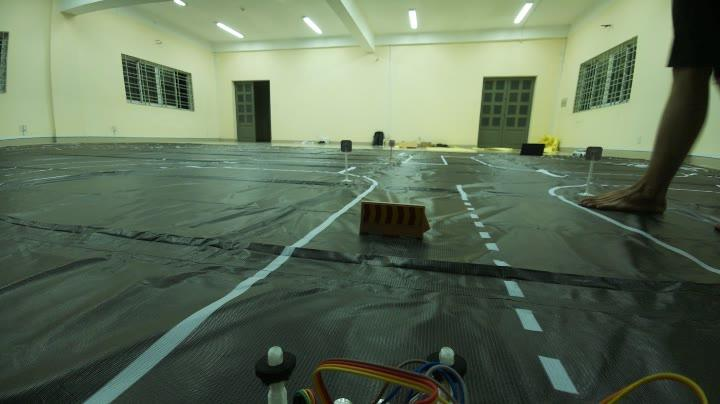roadblock: (354, 194, 437, 249)
